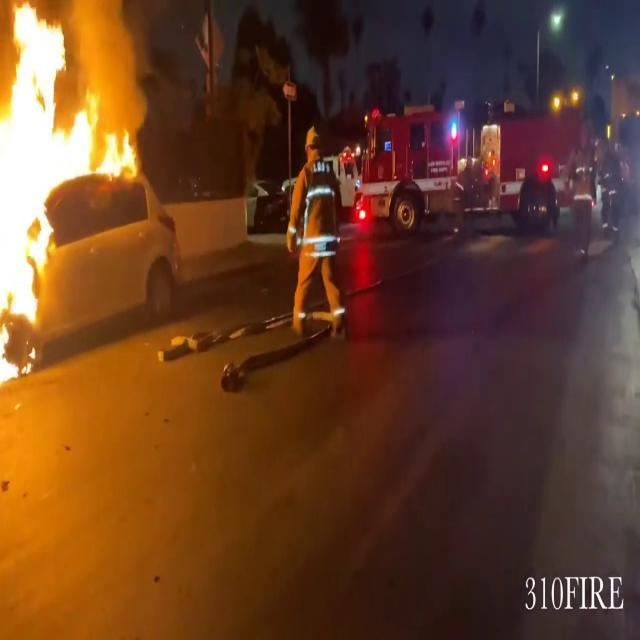Fire: (0, 2, 143, 394)
